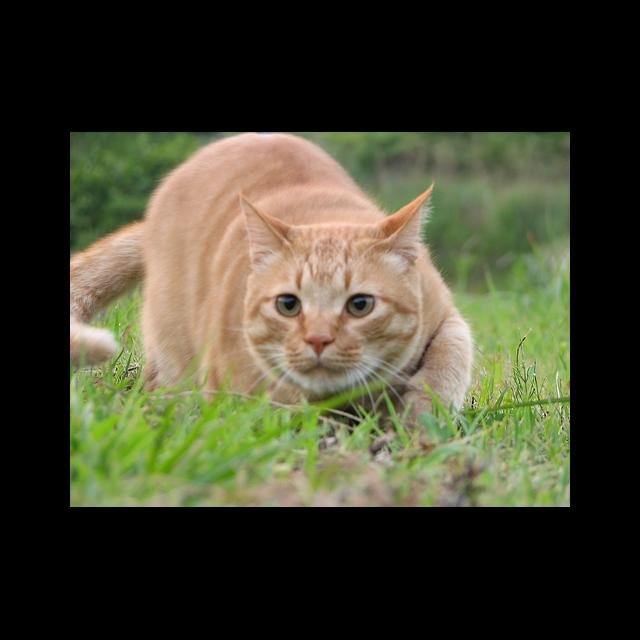animals: (241, 186, 431, 352)
